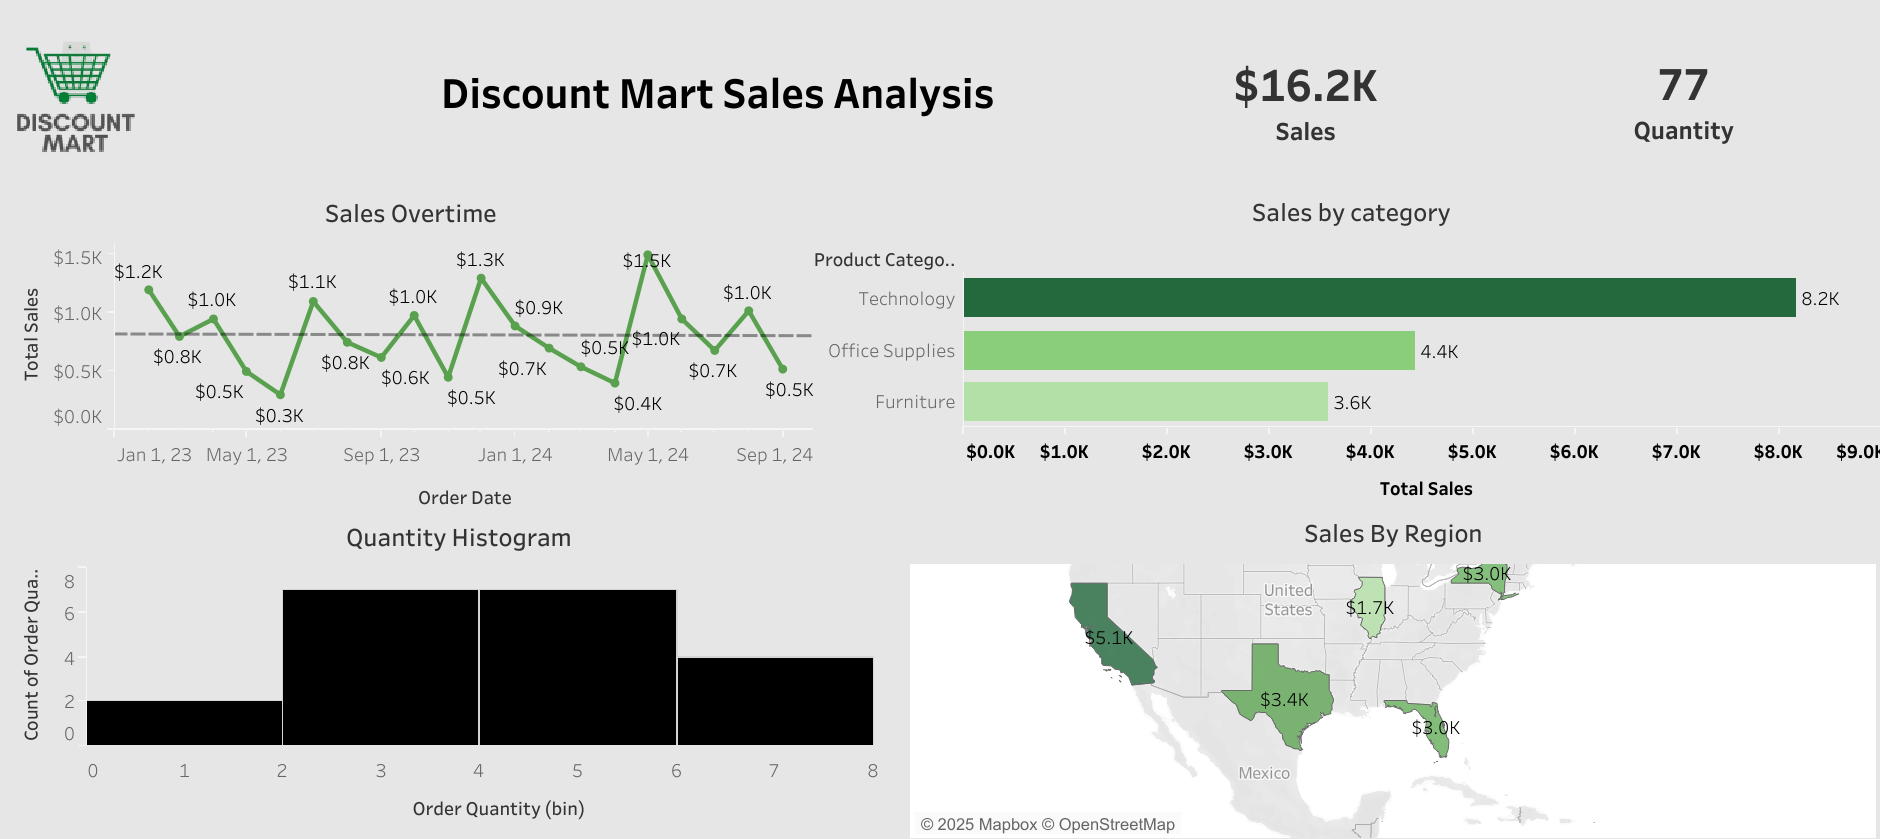

The dashboard page shown, as its layout file describes it:
{"tool":"tableau","page":{"name":"Dashboard 1","canvas":[1000,1000],"units":"permille","ordinal":0},"visuals":[{"type":"worksheet","title":"Sales card","mark":"Automatic","box":[595.4,10.7,196.9,216.1]},{"type":"worksheet","title":"quantity card","mark":"Automatic","box":[790.8,12.5,209.2,210.7]},{"type":"image","param":"Image/images-removebg-preview.png","box":[0,17.9,170.8,178.6]},{"type":"text","box":[170.8,17.9,421.5,180.4]},{"type":"worksheet","title":"Sales by category","mark":"Automatic","rows":["Product_Category"],"cols":["Total_Sales"],"box":[432.3,219.6,572.3,389.3]},{"type":"worksheet","title":"Sales overtime","mark":"Automatic","rows":["Total_Sales"],"cols":["Order_Date"],"box":[3.1,221.4,430.8,385.7]},{"type":"worksheet","title":"Sales by region","mark":"Automatic","box":[483.1,601.8,515.4,398.2]},{"type":"worksheet","title":"Quantity histogram","mark":"Automatic","rows":["Order_Quantity"],"cols":["Order Quantity (bin)"],"box":[3.1,607.1,481.5,382.1]}]}

Visuals, with their boxes on the dashboard's canvas, which has no fixed pixel size, in thousandths of its width and height (x1, y1, x2, y2). These are canvas units, not pixel positions in the 1880x839 screenshot, which may show the page scaled, cropped or inside an application window:
"Sales card" worksheet: {"x1": 595, "y1": 11, "x2": 792, "y2": 227}
"quantity card" worksheet: {"x1": 791, "y1": 12, "x2": 1000, "y2": 223}
image: {"x1": 0, "y1": 18, "x2": 171, "y2": 196}
text: {"x1": 171, "y1": 18, "x2": 592, "y2": 198}
"Sales by category" worksheet: {"x1": 432, "y1": 220, "x2": 1005, "y2": 609}
"Sales overtime" worksheet: {"x1": 3, "y1": 221, "x2": 434, "y2": 607}
"Sales by region" worksheet: {"x1": 483, "y1": 602, "x2": 998, "y2": 1000}
"Quantity histogram" worksheet: {"x1": 3, "y1": 607, "x2": 485, "y2": 989}
